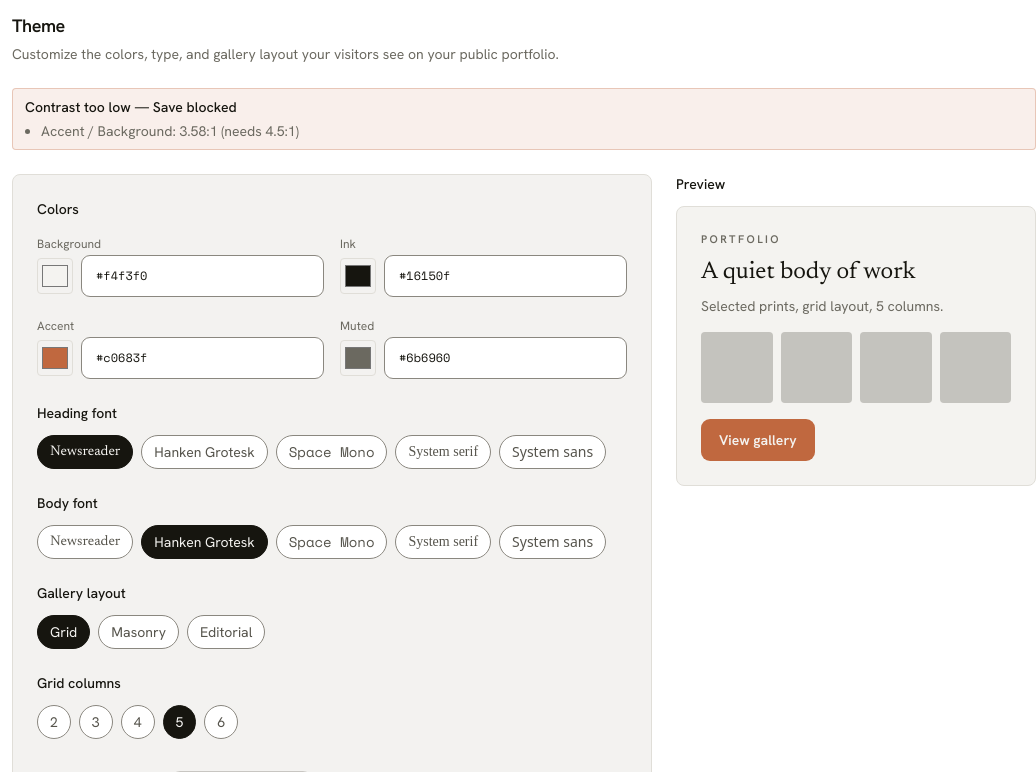
Test: ThemeEditor › saves only the changed fields and syncs the theme query cache
Replace the text in the field labelled "Accent" with "#123456" at (202, 358), box [81, 337, 324, 379]
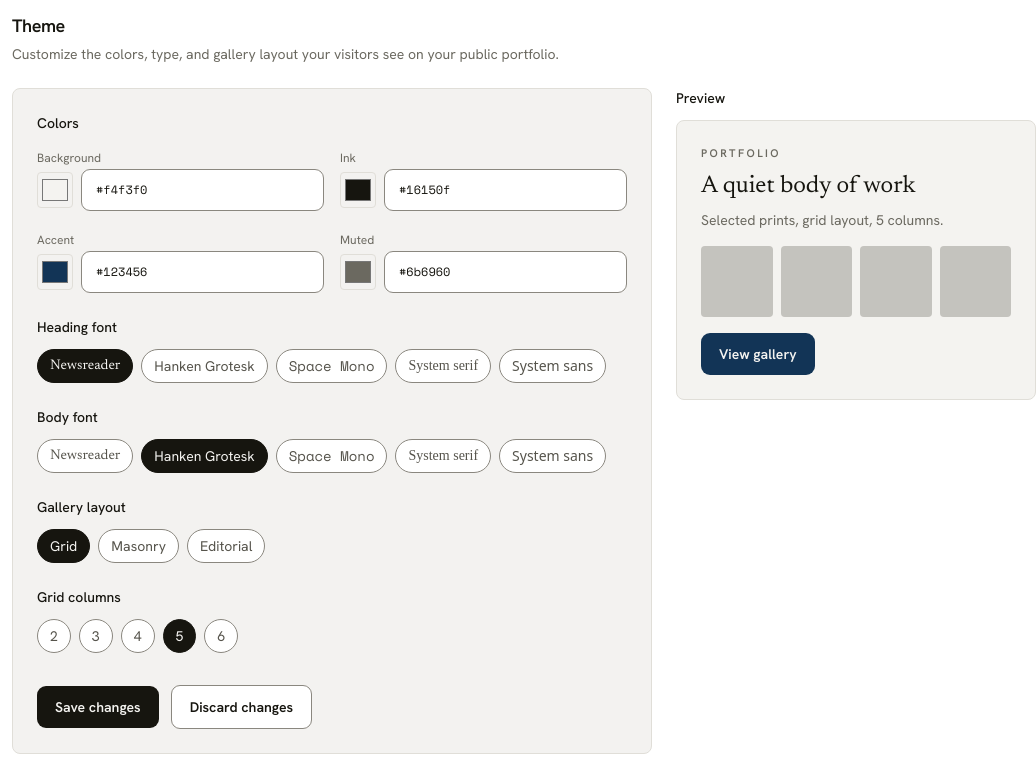
Click the button "Save changes" at (98, 707), box [37, 686, 159, 728]
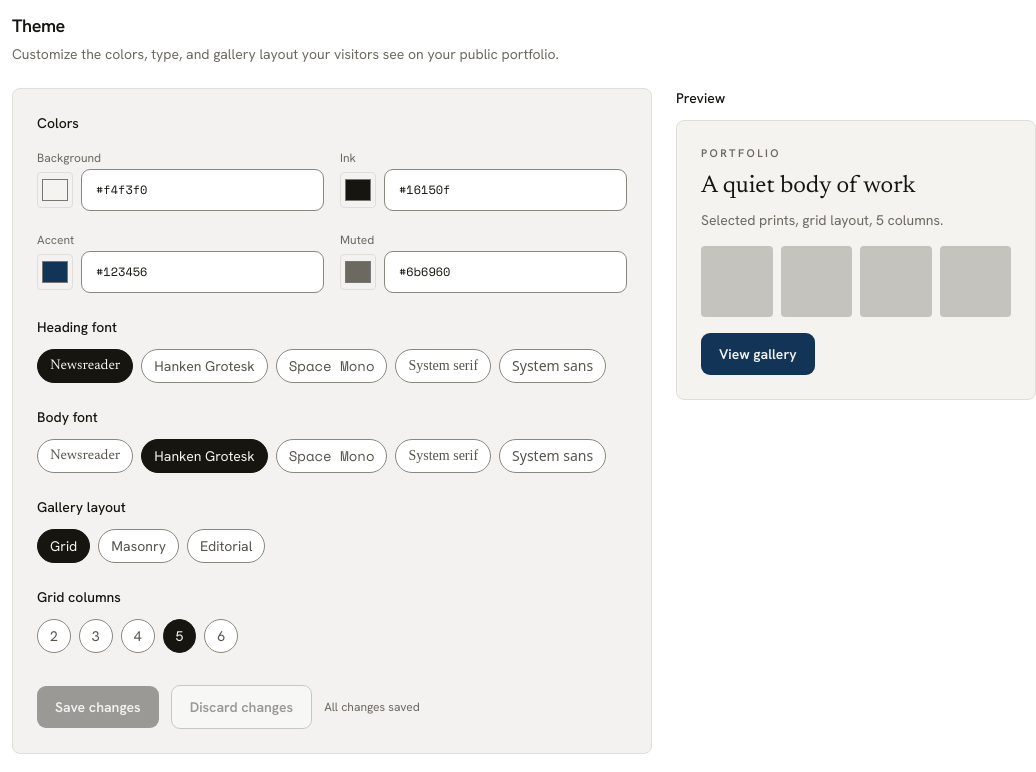
Expected: the text "All changes saved" is shown, [324, 699, 420, 715]
